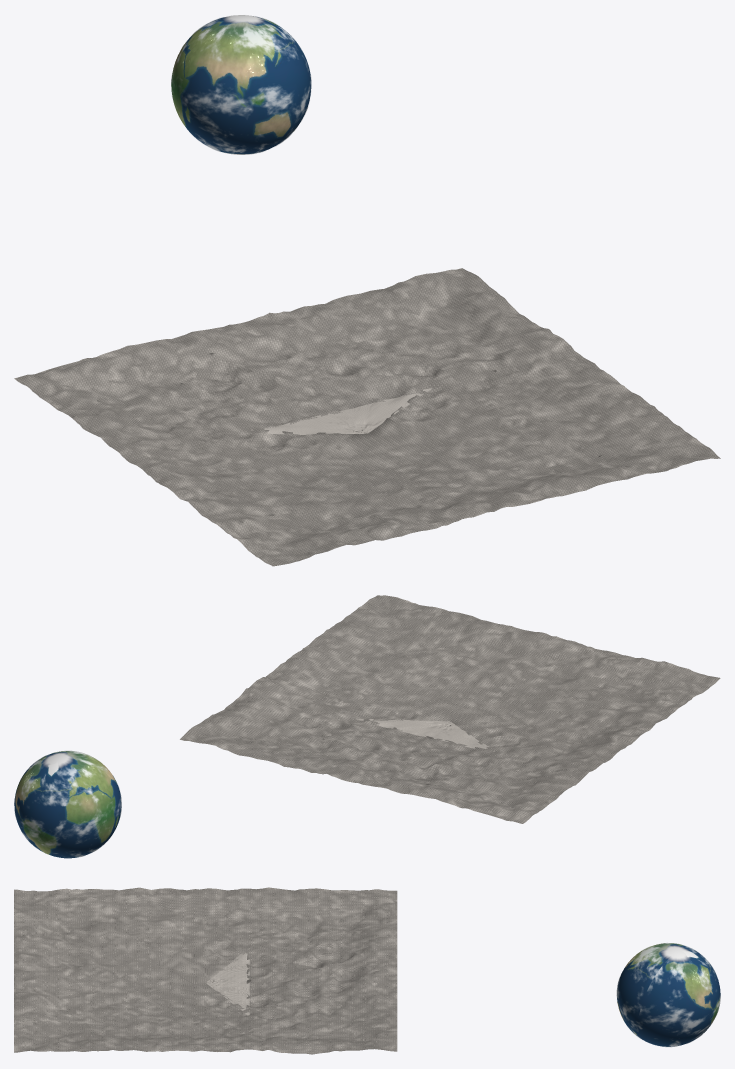
The model's file is moon-environment-mobile.glb.
3 renders of one model, top to bottom at view 1: azimuth 30°, elevation 25°; view 2: azimuth 150°, elevation 25°; view 3: azimuth 270°, elevation 25°, orthographic. The views are drawn at different scales.
Parts seen in each view (by area): view 1: Lunar_Mountains_Far, Earth_Globe, Earth_CloudLayer, Lunar_Terrain_Near; view 2: Lunar_Mountains_Far, Earth_Globe, Earth_CloudLayer, Lunar_Terrain_Near; view 3: Lunar_Mountains_Far, Earth_Globe, Earth_CloudLayer, Lunar_Terrain_Near.
Boxes of the visible parts, x1,y1,x2,y2 form: Lunar_Mountains_Far: (14, 268, 720, 566); Earth_Globe: (171, 15, 311, 154); Earth_CloudLayer: (171, 17, 311, 153); Lunar_Terrain_Near: (251, 388, 432, 434); Lunar_Mountains_Far: (180, 595, 720, 823); Earth_Globe: (14, 751, 121, 858); Earth_CloudLayer: (14, 750, 121, 858); Lunar_Terrain_Near: (356, 719, 494, 751); Lunar_Mountains_Far: (14, 887, 397, 1054); Earth_Globe: (617, 943, 720, 1046); Earth_CloudLayer: (616, 942, 720, 1047); Lunar_Terrain_Near: (206, 948, 249, 1015).
Size of the model in its own units: 7358 by 2119 by 12895.
Materials: 6 (3 with a texture image).
